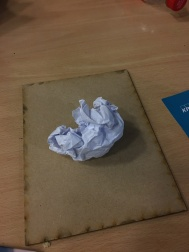paper_white: (39, 90, 143, 173)
